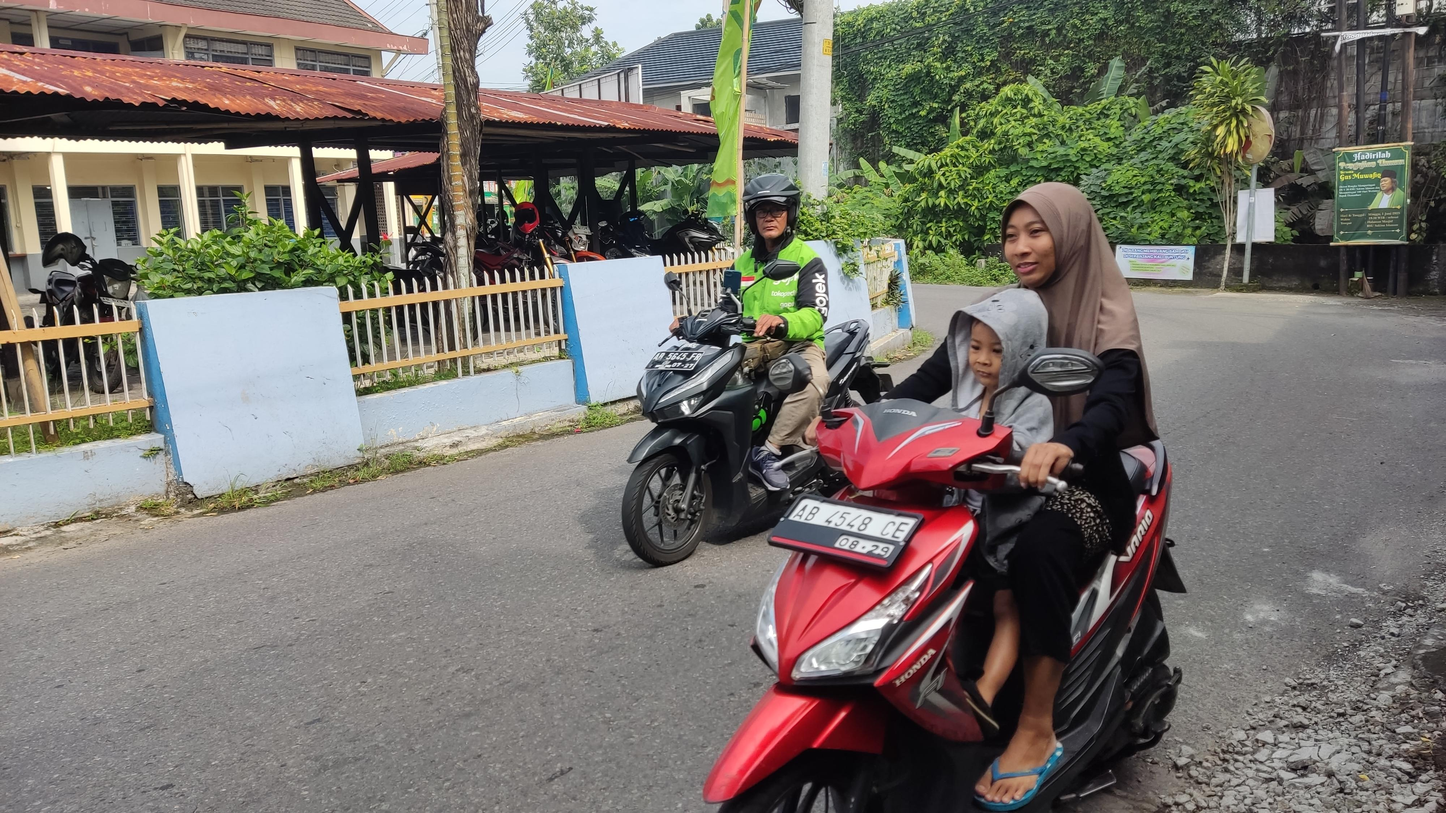helm: (734, 170, 810, 247)
nohelm: (999, 173, 1113, 302), (947, 294, 1053, 395)
riding: (625, 164, 1204, 813)
